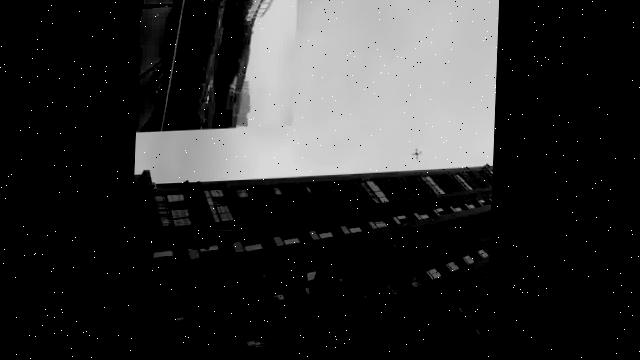drone: (410, 152, 426, 166)
